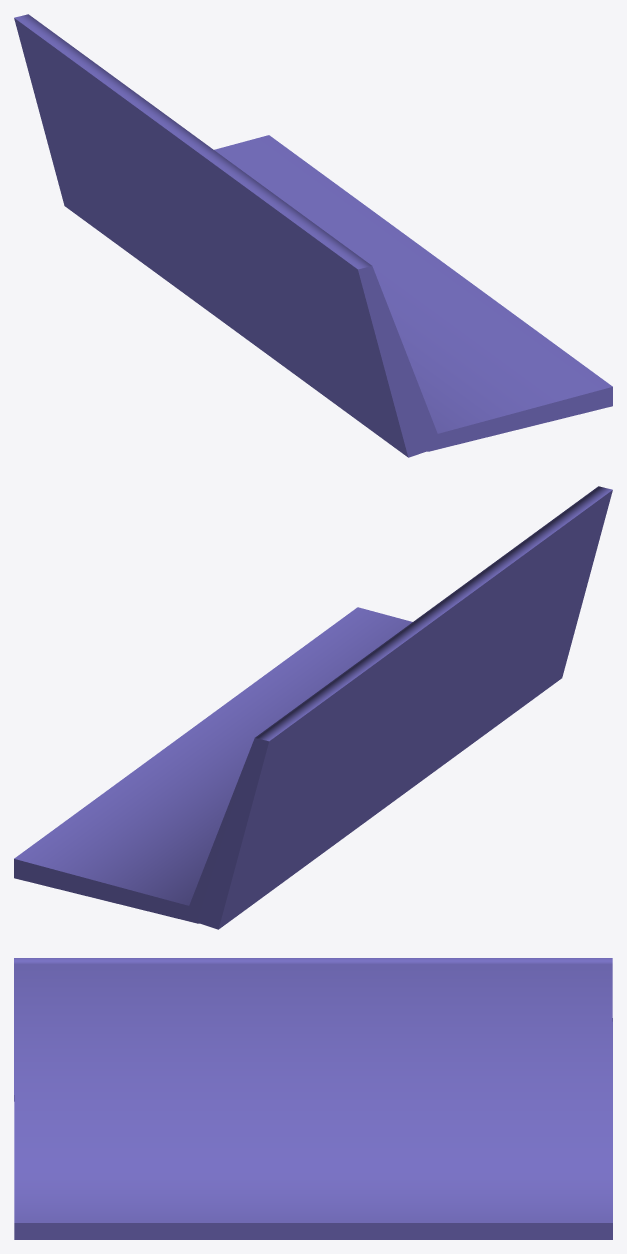
Rendered from sideStand.fbx.
3 renders of one model, top to bottom at view 1: azimuth 30°, elevation 25°; view 2: azimuth 150°, elevation 25°; view 3: azimuth 270°, elevation 25°, orthographic. The views are drawn at different scales.
Parts seen in each view (by area): view 1: SideStand; view 2: SideStand; view 3: SideStand.
Boxes of the visible parts, x1,y1,x2,y2 form: SideStand: (14, 14, 612, 457); SideStand: (14, 486, 612, 929); SideStand: (14, 958, 612, 1239).
Size of the model in its own units: 1714 by 1288 by 4002.
